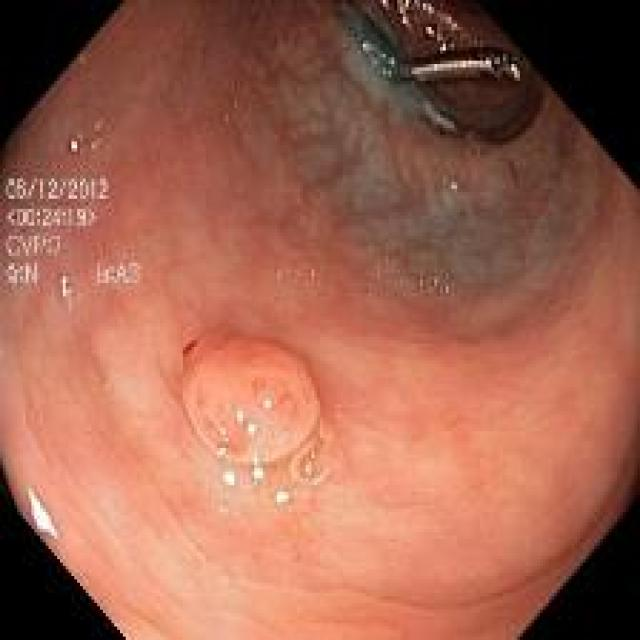Polyps: (182, 339, 319, 464)
